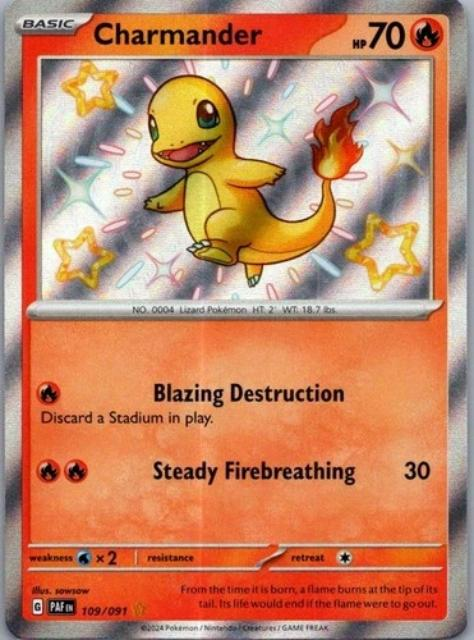Card: (0, 0, 473, 639)
Name: (84, 15, 264, 50)
